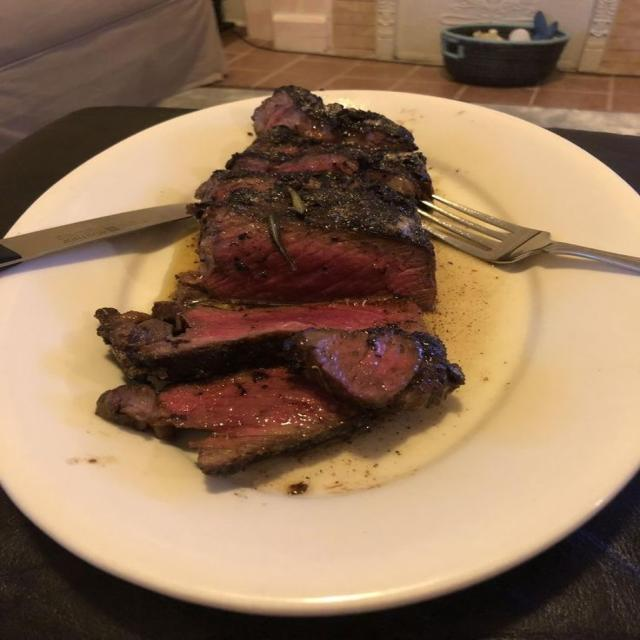beef steak: (180, 171, 436, 310), (97, 367, 357, 474), (95, 297, 422, 382), (226, 129, 431, 199), (293, 328, 461, 408), (252, 85, 417, 150)
